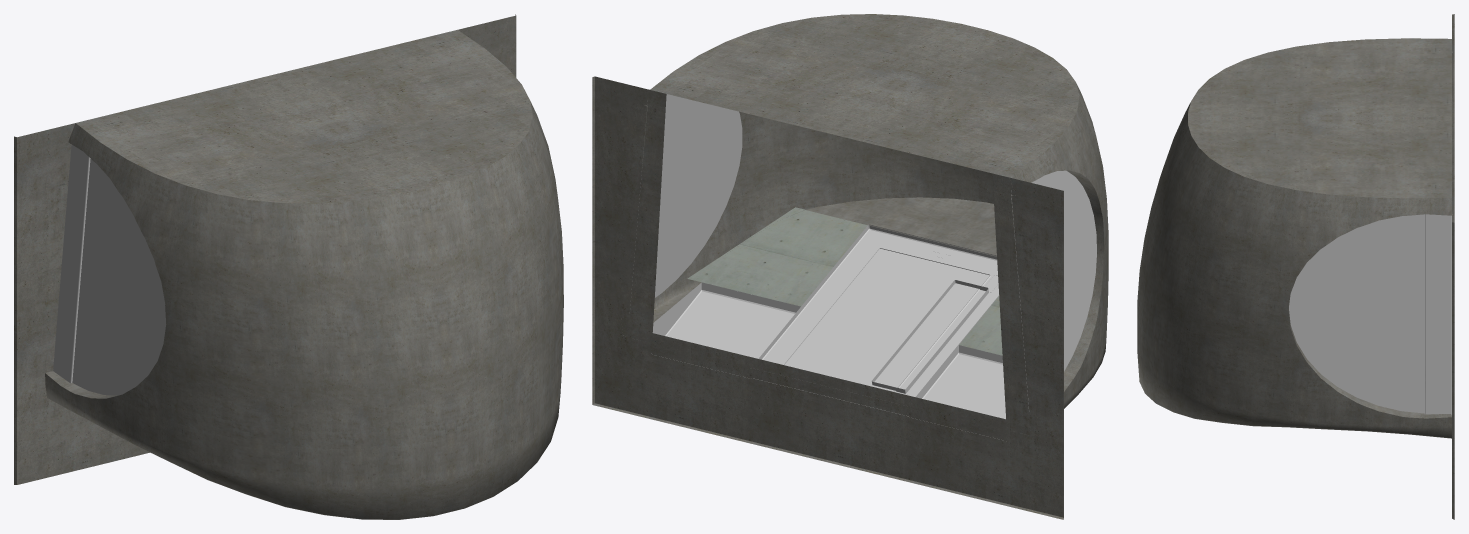
Rendered from nt_fallout_shelter_LOD0.obj.
3 views of the same model, side by side, from view 1: azimuth 30°, elevation 25°; view 2: azimuth 150°, elevation 25°; view 3: azimuth 270°, elevation 25° (orthographic). The views are drawn at different scales.
Visible parts, largest first — view 1: concrete_base02_warm, mtl_nt_fallout_shelter_sign, mtl_nt_fallout_shelter_door; view 2: concrete_base02_warm, mtl_nt_fallout_shelter_sign, mtl_nt_fallout_shelter_door, nt_2020_concrete_formed; view 3: concrete_base02_warm, mtl_nt_fallout_shelter_sign, mtl_nt_fallout_shelter_door.
Boxes of the visible parts, box(x1,y1,x2,y2) form: concrete_base02_warm: box(14, 14, 563, 519); mtl_nt_fallout_shelter_sign: box(72, 159, 166, 395); mtl_nt_fallout_shelter_door: box(53, 144, 90, 383); concrete_base02_warm: box(592, 14, 1108, 519); mtl_nt_fallout_shelter_sign: box(652, 94, 1096, 419); mtl_nt_fallout_shelter_door: box(629, 100, 1029, 416); nt_2020_concrete_formed: box(687, 207, 1002, 355); concrete_base02_warm: box(1137, 14, 1454, 519); mtl_nt_fallout_shelter_sign: box(1289, 214, 1451, 415); mtl_nt_fallout_shelter_door: box(1425, 214, 1451, 414).
Size of the model in its own units: 465 by 309 by 299.
